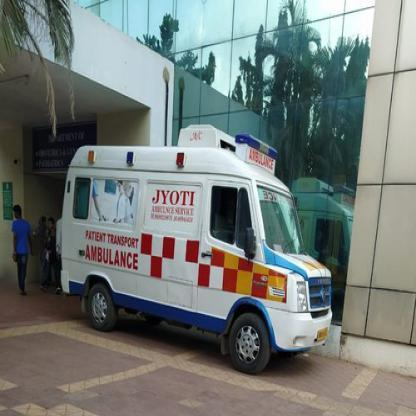Ambulance: (80, 241, 144, 276)
